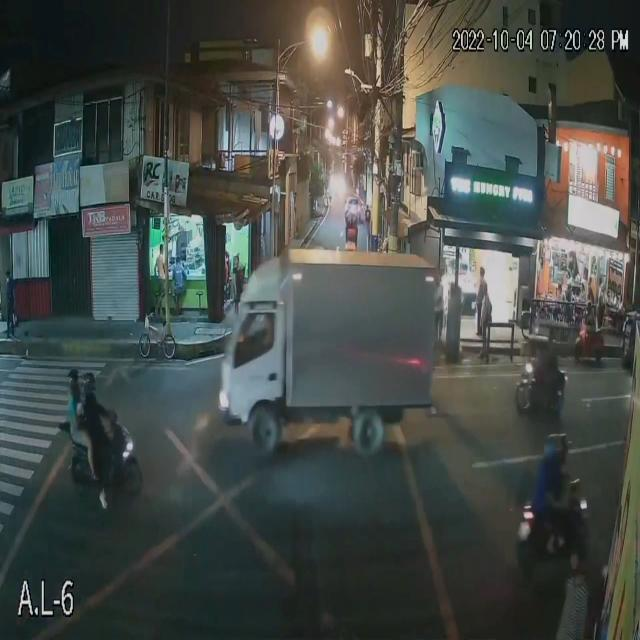Full-Faced: (555, 427, 571, 459), (78, 369, 98, 393), (67, 361, 81, 392), (544, 433, 560, 458)
